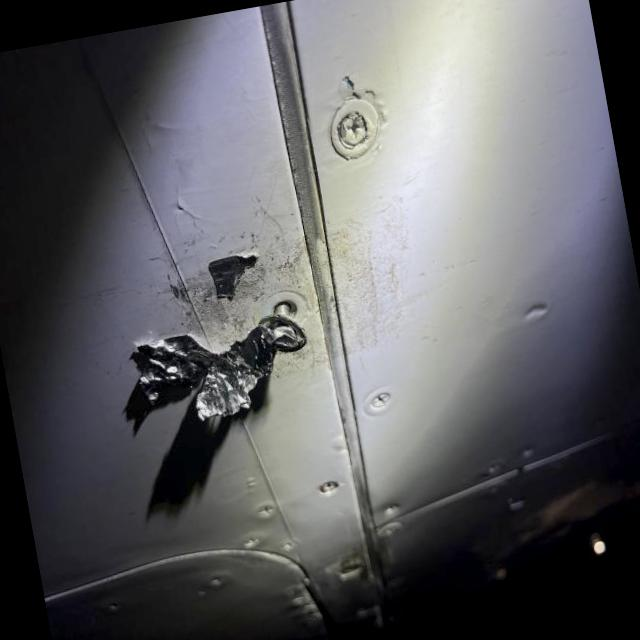Missing Fastener: (248, 283, 320, 370)
